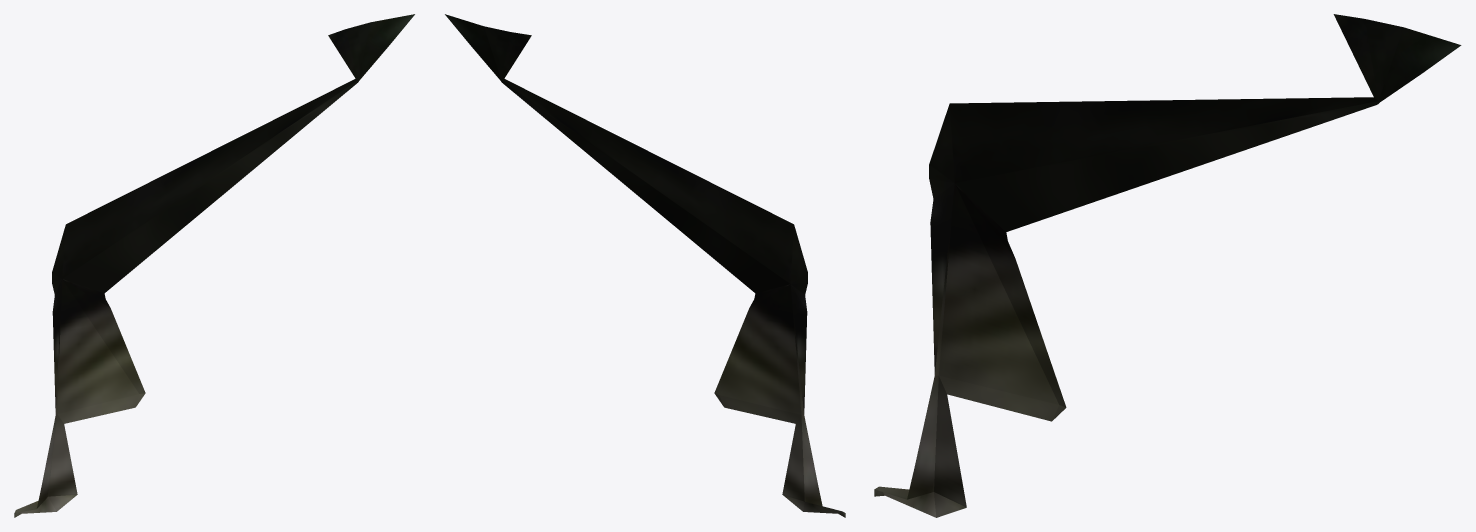
The picture shows the model from 3 angles, left to right: view 1: azimuth 30°, elevation 25°; view 2: azimuth 150°, elevation 25°; view 3: azimuth 330°, elevation 25°; orthographic projection. The views are drawn at different scales.
Size of the model in its own units: 0.8411 by 0.8224 by 0.0131.
Materials: 1 (1 with a texture image).
